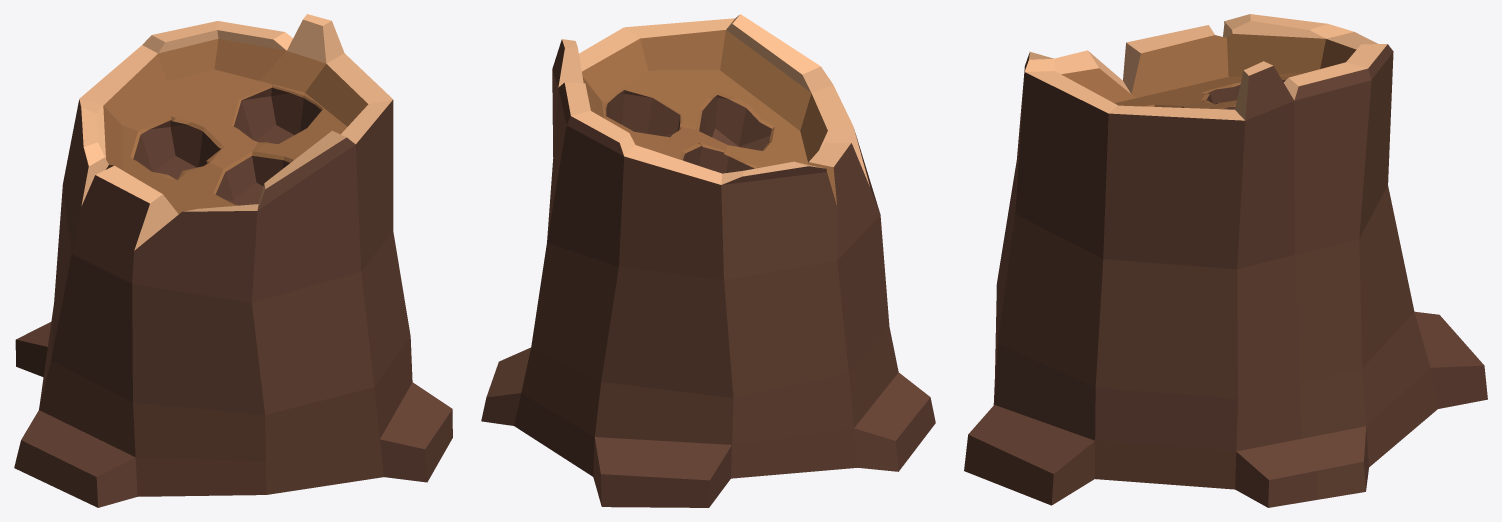
File: penek2.fbx
The picture shows the model from 3 angles, left to right: view 1: azimuth 30°, elevation 25°; view 2: azimuth 150°, elevation 25°; view 3: azimuth 270°, elevation 25°; orthographic projection. The views are drawn at different scales.
Parts seen in each view (by area): view 1: stump.001; view 2: stump.001; view 3: stump.001.
Part boxes in pixels (left/top/right/bottom): stump.001: left=14, top=14, right=452, bottom=507; stump.001: left=481, top=14, right=935, bottom=507; stump.001: left=964, top=14, right=1487, bottom=507.
Bounding box in the file's own units: 114 × 103 × 118.
